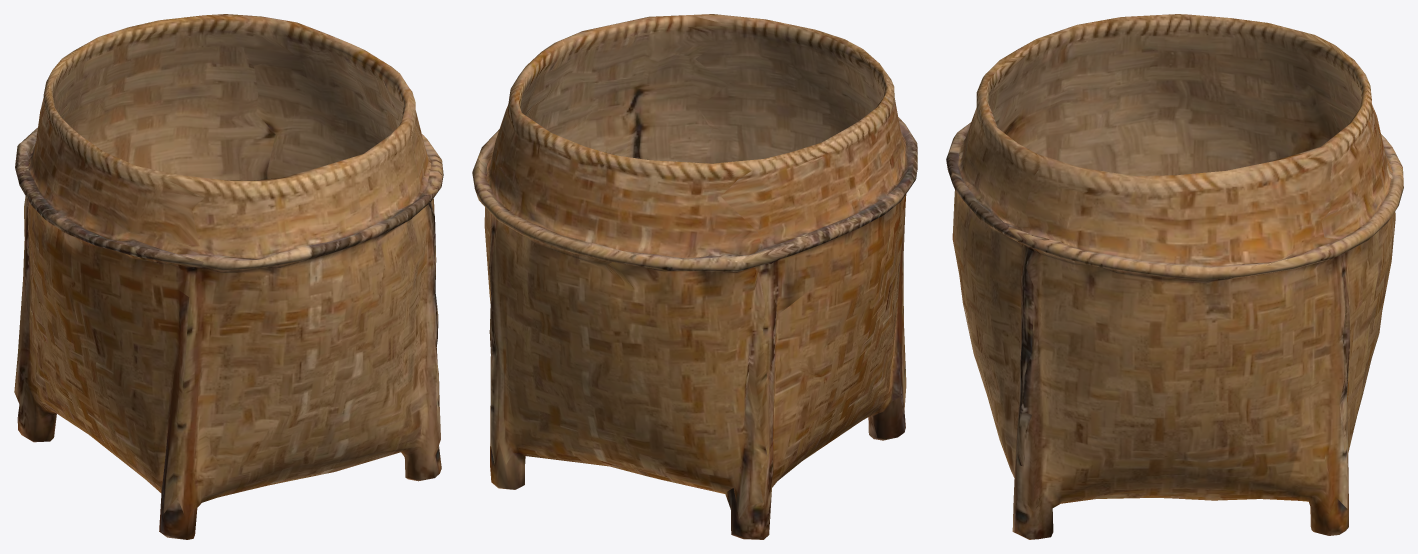
Rendered from canasta_mimbre.glb.
3 views of the same model, side by side, from view 1: azimuth 30°, elevation 25°; view 2: azimuth 150°, elevation 25°; view 3: azimuth 270°, elevation 25° (orthographic). The views are drawn at different scales.
Parts seen in each view (by area): view 1: canasta_mimbre; view 2: canasta_mimbre; view 3: canasta_mimbre.
Part boxes in pixels (box(x1,y1,x2,y2)): canasta_mimbre: box(14, 14, 443, 539); canasta_mimbre: box(472, 14, 917, 539); canasta_mimbre: box(946, 14, 1403, 539).
Bounding box in the file's own units: 0.212 × 0.1999 × 0.2166.
1 material, 1 textured.
